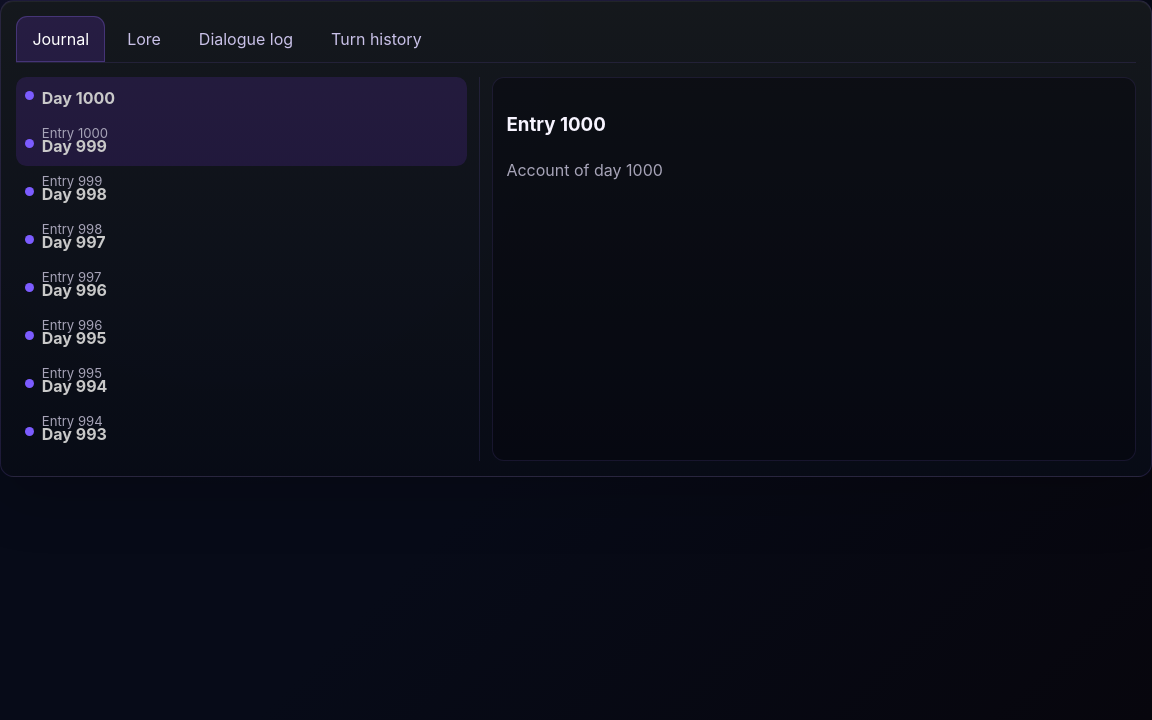
Test case: RpgNarrativeTabs journal › renders a bounded window of a thousand-day journal and still selects an entry
Expected: the button "Day 1000 Entry 1000" is shown, 16,77 -> 467,166
Expected: the heading "Entry 1000" is shown, 506,113 -> 606,136
Click the button "Day 999 Entry 999". click: point(74, 146)
box: 25,136 -> 107,190
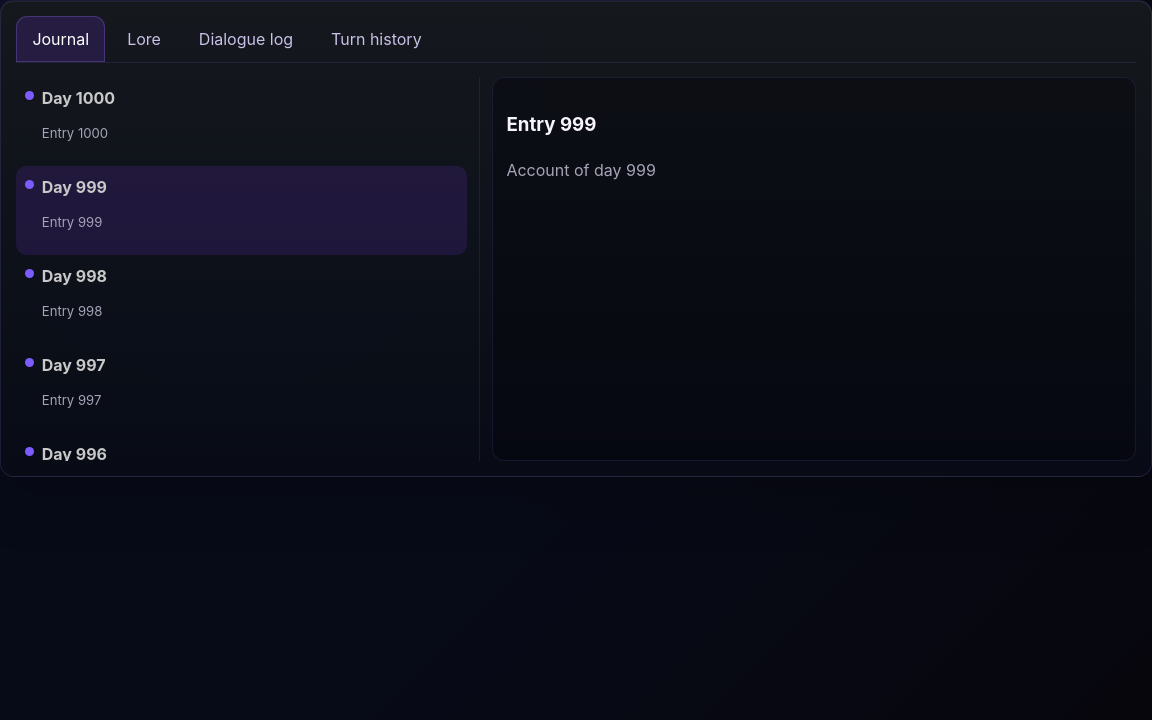
Now the heading "Entry 999" is shown, box 506,113 -> 596,136
